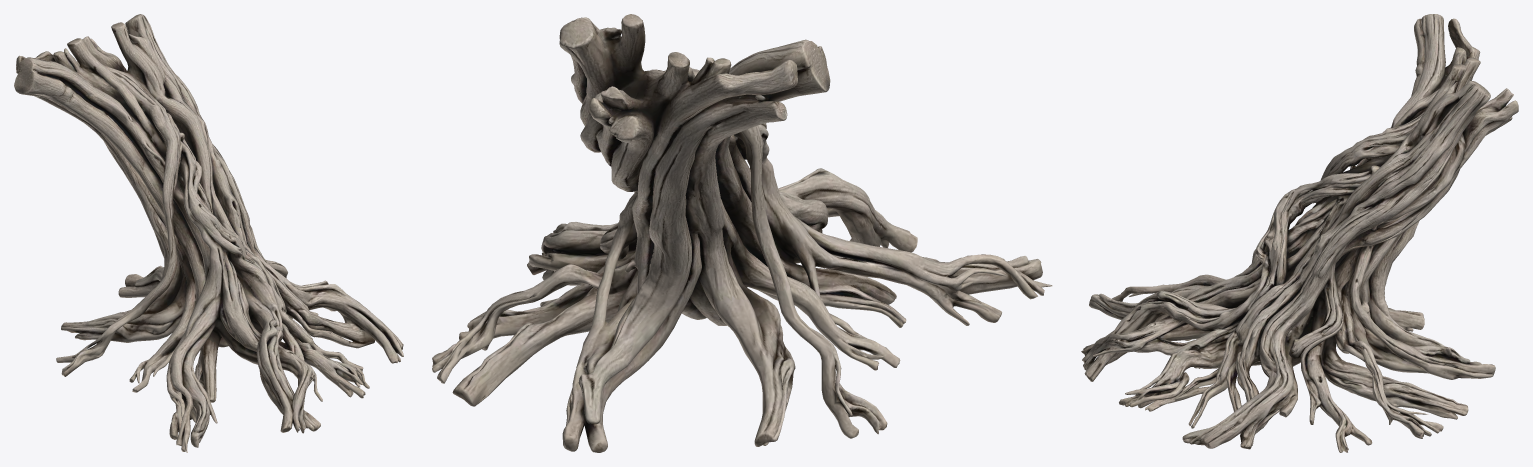
File: flare.glb
The picture shows the model from 3 angles, left to right: view 1: azimuth 30°, elevation 25°; view 2: azimuth 150°, elevation 25°; view 3: azimuth 270°, elevation 25°; orthographic projection. The views are drawn at different scales.
Visible parts, largest first — view 1: tripo_node_ca6cddb9-7aee-41d2-a6cf-94df4fe5f0f8; view 2: tripo_node_ca6cddb9-7aee-41d2-a6cf-94df4fe5f0f8; view 3: tripo_node_ca6cddb9-7aee-41d2-a6cf-94df4fe5f0f8.
Boxes of the visible parts, left/top/right/bottom form: tripo_node_ca6cddb9-7aee-41d2-a6cf-94df4fe5f0f8: left=14, top=14, right=403, bottom=452; tripo_node_ca6cddb9-7aee-41d2-a6cf-94df4fe5f0f8: left=432, top=14, right=1052, bottom=452; tripo_node_ca6cddb9-7aee-41d2-a6cf-94df4fe5f0f8: left=1081, top=14, right=1518, bottom=452.
Size of the model in its own units: 0.783 by 0.7542 by 0.9818.
Materials: 1 (1 with a texture image).
